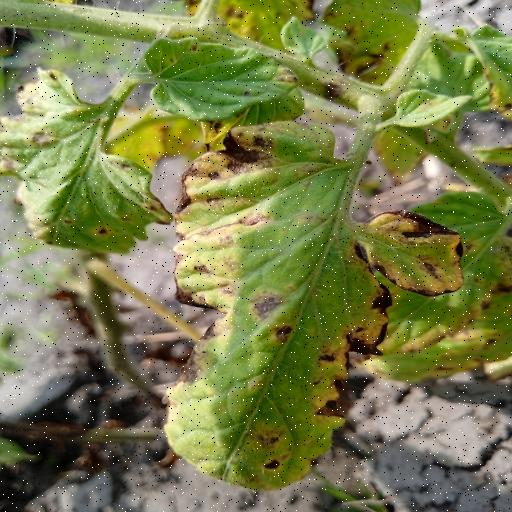Tomato_Brown_Spots: (163, 110, 468, 498)
